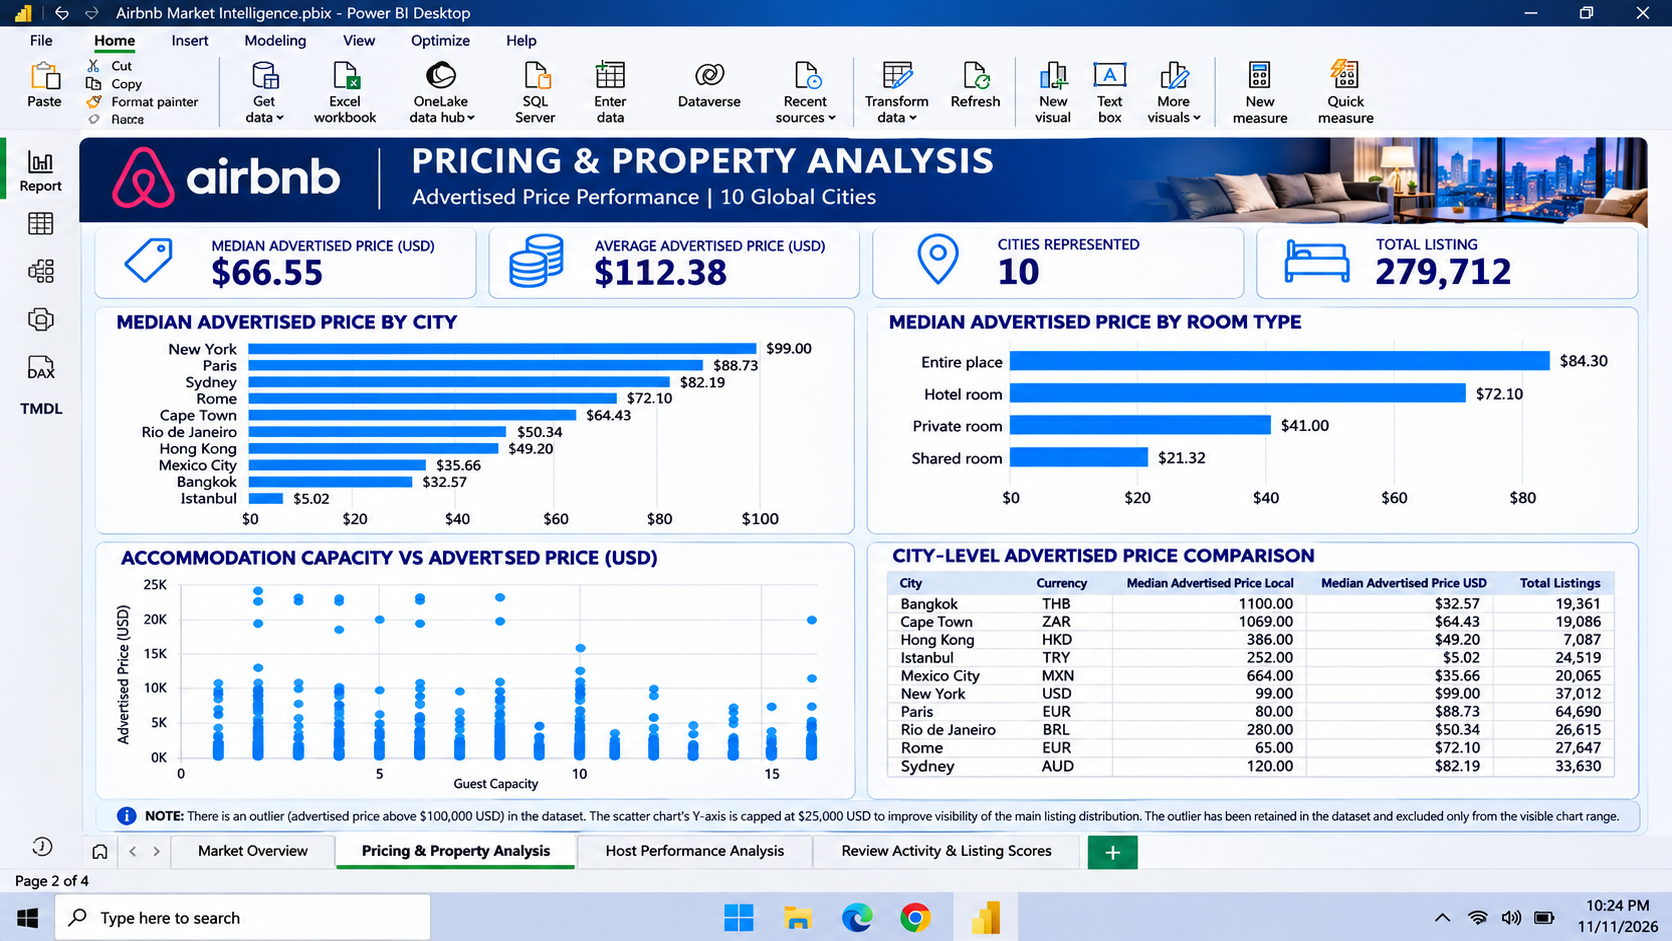

The page's visual inventory and layout, read from the dashboard file:
{"tool":"powerbi","page":{"name":"Pricing & Property Analysis","canvas":[1920,1900],"ordinal":1},"visuals":[{"type":"cardVisual","fields":{"Data":["Listings_PBI.Median Advertised Price USD"]},"box":[7.4,129.6,359.3,74.1],"z":0},{"type":"cardVisual","fields":{"Data":["Listings_PBI.Average Advertised Price USD"]},"box":[418.5,129.6,344.4,74.1],"z":1000},{"type":"cardVisual","fields":{"Data":["Listings_PBI.Cities Represented"]},"box":[825.9,125.9,359.3,77.8],"z":2000},{"type":"cardVisual","fields":{"Data":["Listings_PBI.Total Listings"]},"box":[1292.6,129.6,355.6,74.1],"z":3000},{"type":"textbox","title":"PRICING & PROPERTY ANALYSIS ","box":[11.1,22.2,596.3,107.4],"z":4000},{"type":"clusteredBarChart","title":"MEDIAN ADVERTISED PRICE BY CITY","fields":{"Category":["Listings_PBI.city"],"Y":["Listings_PBI.Median Advertised Price USD"]},"box":[0,229.6,807,356.2],"z":5000},{"type":"clusteredBarChart","title":"MEDIAN ADVERTISED PRICE BY ROOM TYPE","fields":{"Category":["Listings_PBI.room_type"],"Y":["Listings_PBI.Median Advertised Price USD"]},"box":[848.1,229.6,800,355.6],"z":6000},{"type":"scatterChart","title":"ACCOMMODATION CAPACITY VS ADVERTISED PRICE (USD)","fields":{"Category":["Listings_PBI.listing_id"],"X":["Sum(Listings_PBI.accommodates)"],"Y":["Sum(Listings_PBI.price_usd)"]},"box":[0,600,818.1,459.1],"z":7000},{"type":"textbox","box":[0,1085.2,1648.1,125.9],"z":8000},{"type":"tableEx","title":"CITY-LEVEL ADVERTISED PRICE COMPARISON","fields":{"Values":["Listings_PBI.city","Listings_PBI.currency","Listings_PBI.Median Advertised Price Local","Listings_PBI.Median Advertised Price USD","Listings_PBI.Total Listings"]},"box":[844.4,600,803.7,485.2],"z":9000}]}

Visuals, with their boxes on the page's 1920x1900 design canvas (x1, y1, x2, y2). These are canvas units, not pixel positions in the 1672x941 screenshot, which may show the page scaled, cropped or inside an application window:
cardVisual - Listings_PBI.Median Advertised Price USD: crop(7, 130, 367, 204)
cardVisual - Listings_PBI.Average Advertised Price USD: crop(418, 130, 763, 204)
cardVisual - Listings_PBI.Cities Represented: crop(826, 126, 1185, 204)
cardVisual - Listings_PBI.Total Listings: crop(1293, 130, 1648, 204)
"PRICING & PROPERTY ANALYSIS " textbox: crop(11, 22, 607, 130)
"MEDIAN ADVERTISED PRICE BY CITY" clusteredBarChart: crop(0, 230, 807, 586)
"MEDIAN ADVERTISED PRICE BY ROOM TYPE" clusteredBarChart: crop(848, 230, 1648, 585)
"ACCOMMODATION CAPACITY VS ADVERTISED PRICE (USD)" scatterChart: crop(0, 600, 818, 1059)
textbox: crop(0, 1085, 1648, 1211)
"CITY-LEVEL ADVERTISED PRICE COMPARISON" tableEx: crop(844, 600, 1648, 1085)
